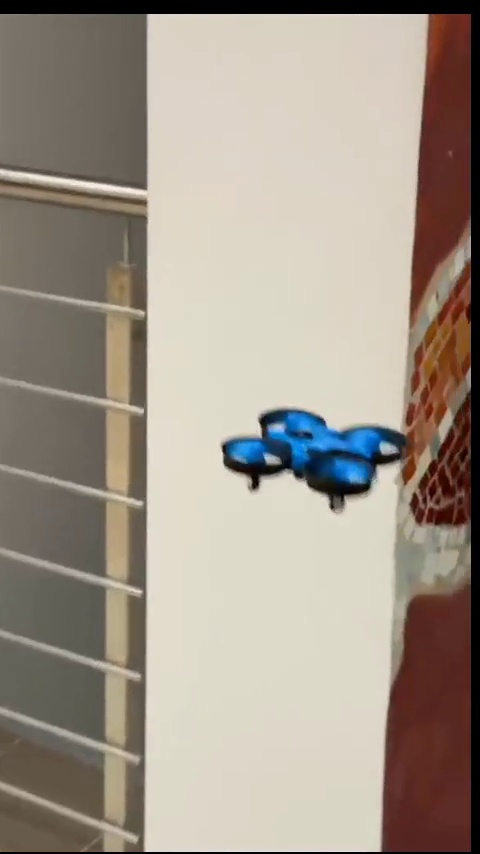drone: (220, 415, 410, 509)
